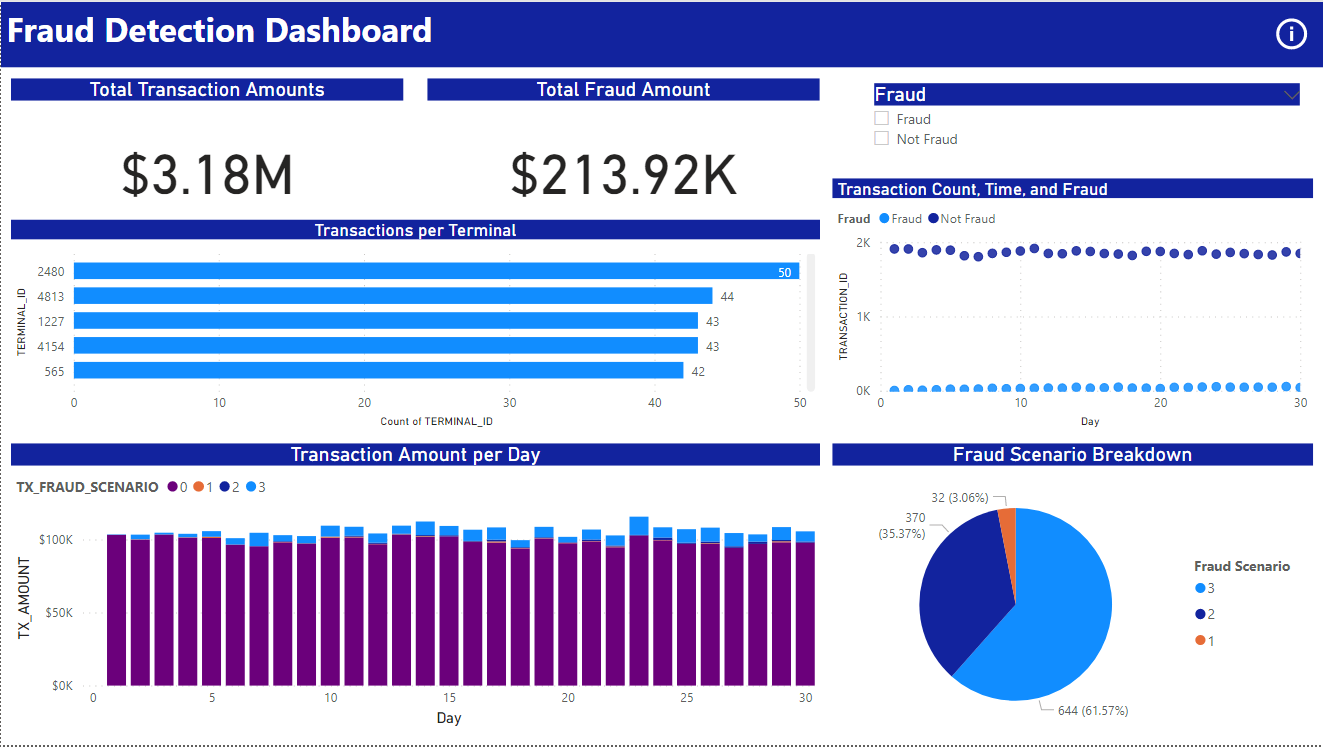

This screenshot's page, from the dashboard's own definition file:
{"tool":"powerbi","page":{"name":"Transaction Metrics","canvas":[1280,720],"ordinal":1},"visuals":[{"type":"textbox","box":[0,0,1280,63.2],"z":0},{"type":"slicer","title":"Fraud","fields":{"Values":["cctransactions.Fraud"]},"box":[832.3,74.2,438.1,96.1],"z":1000},{"type":"columnChart","title":"Transaction Amount per Day","fields":{"Category":["cctransactions.TX_DATETIME.Variation.Date Hierarchy.Year","cctransactions.TX_DATETIME.Variation.Date Hierarchy.Quarter","cctransactions.TX_DATETIME.Variation.Date Hierarchy.Month","cctransactions.TX_DATETIME.Variation.Date Hierarchy.Day"],"Series":["cctransactions.TX_FRAUD_SCENARIO"],"Y":["Sum(cctransactions.TX_AMOUNT)"]},"box":[9.6,426.7,783.1,279.4],"z":2000},{"type":"card","title":"Total Transaction Amounts","fields":{"Values":["Sum(cctransactions.TX_AMOUNT)"]},"box":[9.6,74.3,379.9,150],"z":3000},{"type":"card","title":"Total Fraud Amount","fields":{"Values":["Sum(cctransactions.TX_AMOUNT)"]},"box":[412.9,74.3,379.9,150],"z":4000},{"type":"pieChart","title":"Fraud Scenario Breakdown","fields":{"Category":["cctransactions.TX_FRAUD_SCENARIO"],"Y":["CountNonNull(cctransactions.TX_FRAUD_SCENARIO)"]},"box":[805.2,426.7,465.2,290.4],"z":5000},{"type":"barChart","title":"Transactions per Terminal","fields":{"Y":["CountNonNull(cctransactions.TERMINAL_ID)"],"Category":["cctransactions.TERMINAL_ID"]},"box":[9.6,210.6,783.1,206.5],"z":6000},{"type":"scatterChart","title":"Transaction Count, Time, and Fraud","fields":{"Series":["cctransactions.Fraud"],"X":["cctransactions.TX_DATETIME.Variation.Date Hierarchy.Day"],"Y":["CountNonNull(cctransactions.TRANSACTION_ID)"]},"box":[805.2,170.7,465.2,246.4],"z":7000},{"type":"actionButton","box":[1229.1,11,41.3,39.9],"z":8000}]}

Visuals, with their boxes in screenshot pixels (x1, y1, x2, y2), scaled from the page's 1280x720 canvas onto the 1323x747 screenshot:
textbox: left=0, top=0, right=1322, bottom=66
"Fraud" slicer: left=860, top=77, right=1313, bottom=177
"Transaction Amount per Day" columnChart: left=10, top=443, right=819, bottom=733
"Total Transaction Amounts" card: left=10, top=77, right=403, bottom=233
"Total Fraud Amount" card: left=427, top=77, right=819, bottom=233
"Fraud Scenario Breakdown" pieChart: left=832, top=443, right=1313, bottom=744
"Transactions per Terminal" barChart: left=10, top=218, right=819, bottom=433
"Transaction Count, Time, and Fraud" scatterChart: left=832, top=177, right=1313, bottom=433
actionButton: left=1270, top=11, right=1313, bottom=53
